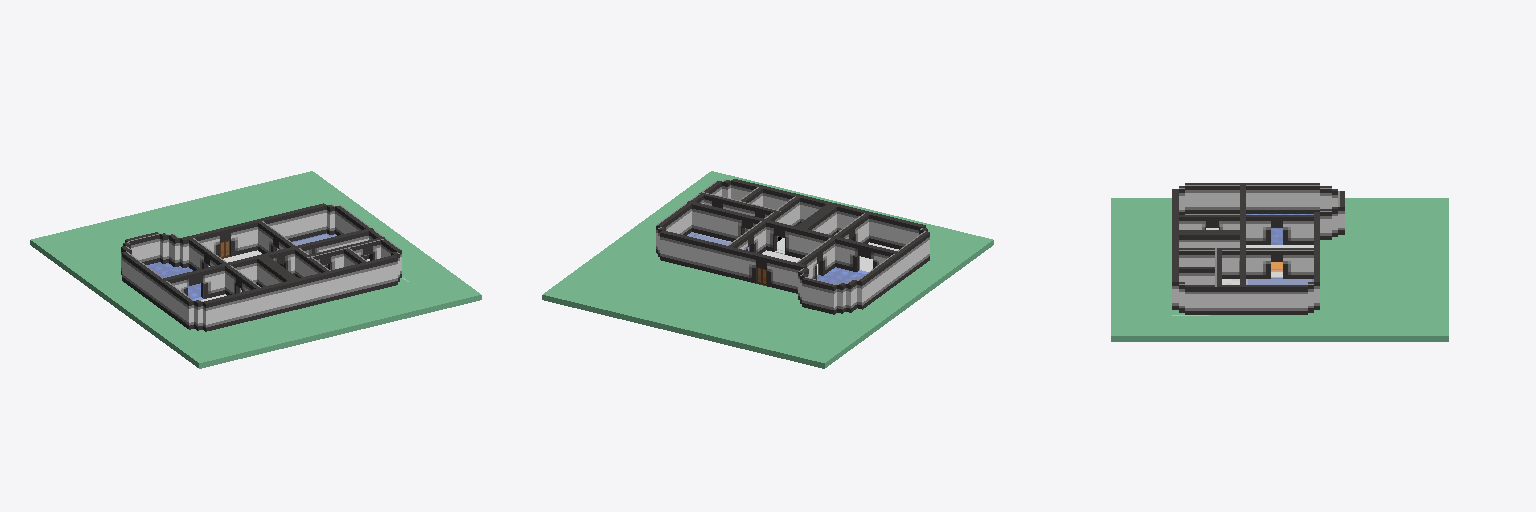
3 views of the same model, side by side, from view 1: azimuth 30°, elevation 25°; view 2: azimuth 150°, elevation 25°; view 3: azimuth 270°, elevation 25° (orthographic).
Parts seen in each view (by area): view 1: Model; view 2: Model; view 3: Model.
Boxes of the visible parts, x1=… form: Model: x1=30, y1=171, x2=481, y2=368; Model: x1=542, y1=171, x2=993, y2=368; Model: x1=1111, y1=183, x2=1448, y2=341.
Bounding box in the file's own units: 30.84 × 3.49 × 32.
1 materials, 1 textured.